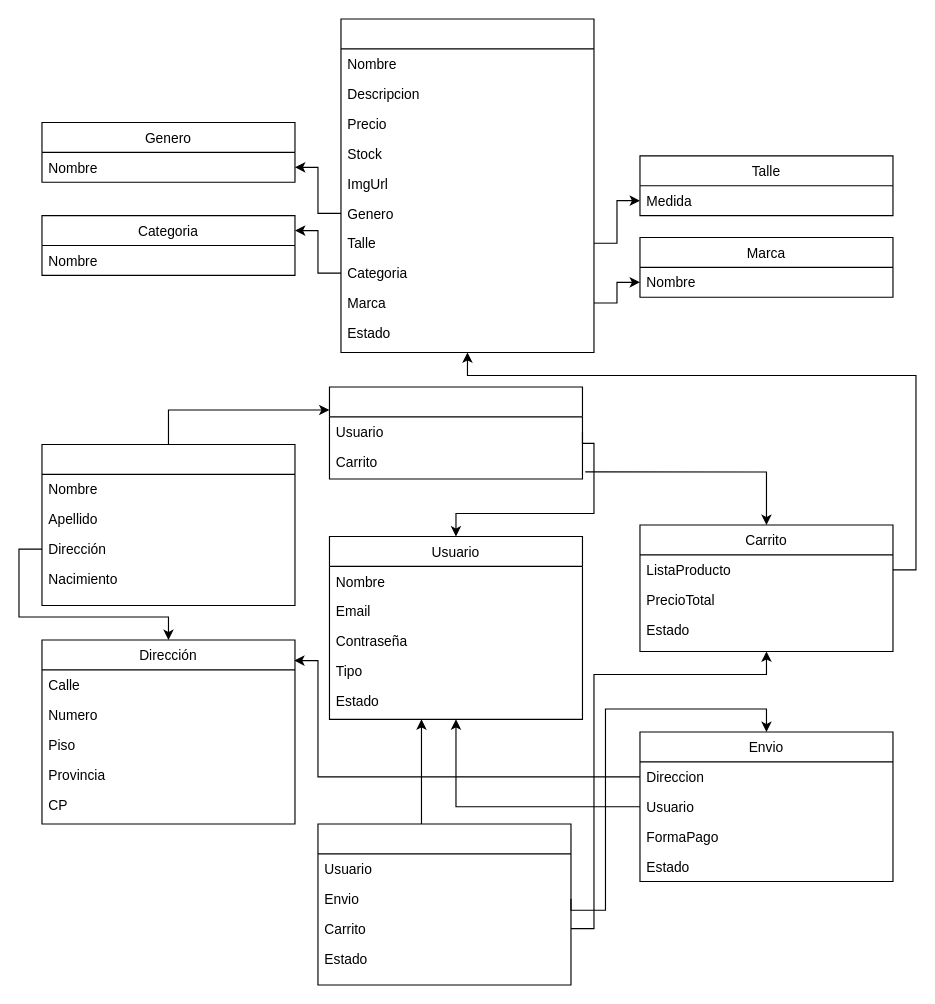
Some shapes in this 935 by 1004 pixel diagram are drawn without their labels. The shapes that lost their labels are listed below. From the top down, each one's box as (x1, y1, x2, y2) in pixels, then its label:
(340, 18, 594, 352): Producto
(328, 386, 582, 479): Cliente
(41, 443, 295, 605): Persona
(317, 823, 571, 985): Venta
